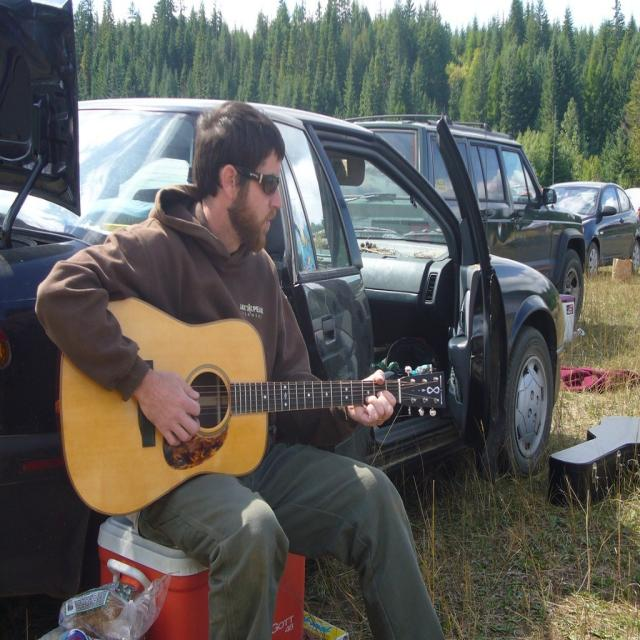guitar: (56, 298, 447, 520)
